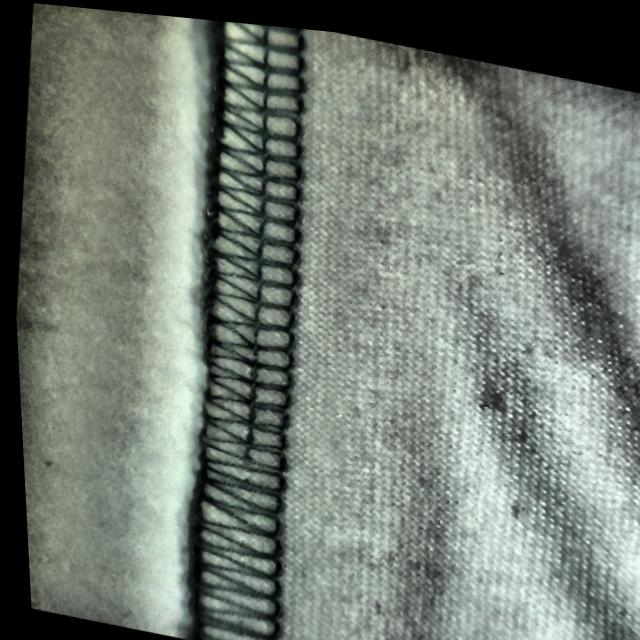Stitch: (161, 223, 325, 640)
